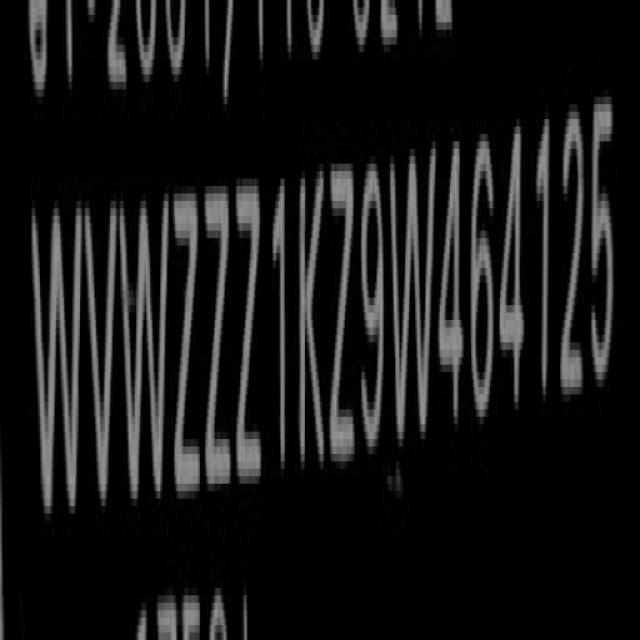1: (268, 165, 290, 492), (534, 105, 551, 420)
2: (558, 98, 584, 414)
4: (437, 130, 464, 445), (501, 116, 528, 428)
5: (592, 86, 618, 402)
6: (470, 123, 496, 431)
9: (361, 152, 387, 466)
K: (298, 162, 326, 488)
V: (84, 196, 119, 502)
W: (119, 190, 169, 524), (33, 198, 79, 536), (388, 124, 436, 446)
Z: (234, 167, 262, 503), (175, 184, 203, 513), (205, 179, 232, 508), (328, 150, 355, 478)
